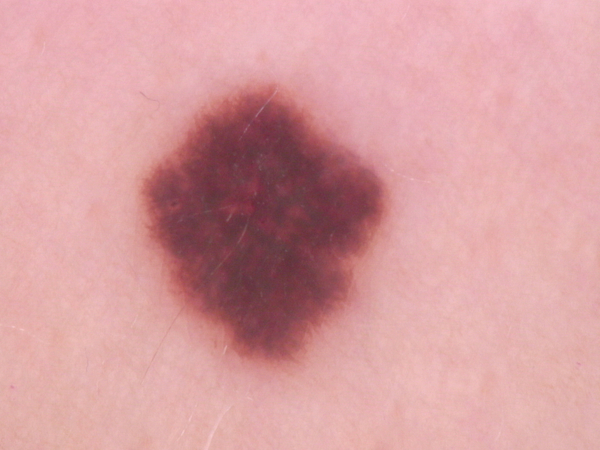Detected Lesion: (134, 84, 390, 382)
